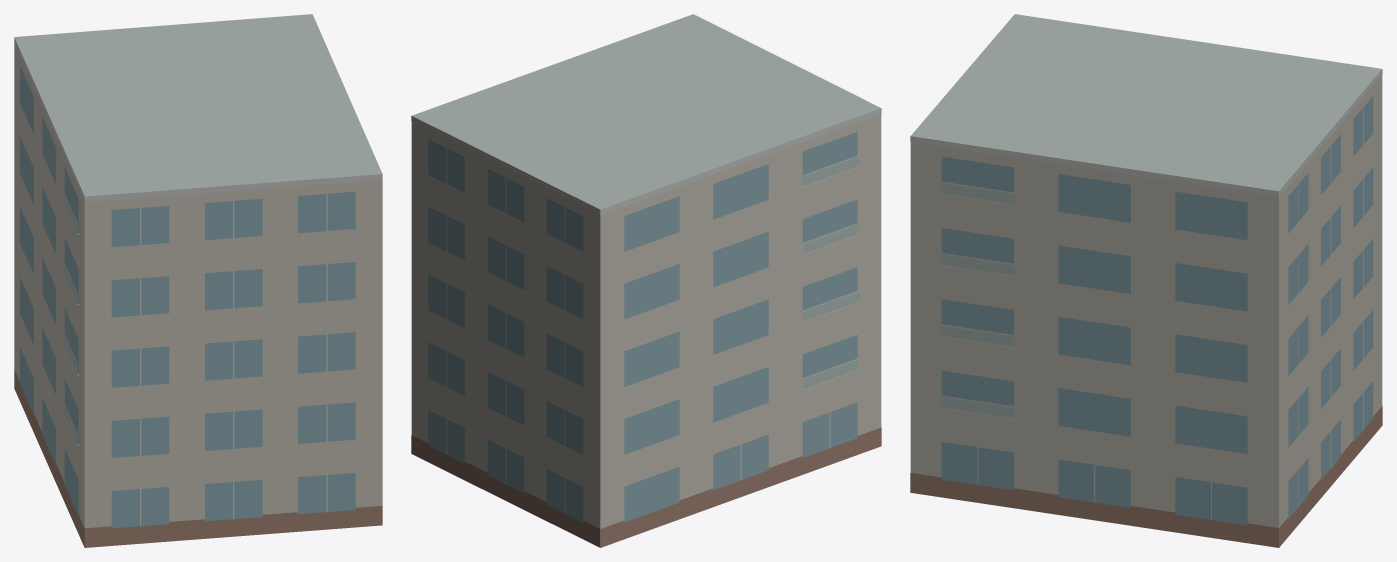
File: survey-upis-32849544.glb
3 views of the same model, side by side, from view 1: azimuth 30°, elevation 25°; view 2: azimuth 150°, elevation 25°; view 3: azimuth 270°, elevation 25° (orthographic). The views are drawn at different scales.
Visible parts, largest first — view 1: survey-upis-32849544.tmp; view 2: survey-upis-32849544.tmp; view 3: survey-upis-32849544.tmp.
Part boxes in pixels (<box>): survey-upis-32849544.tmp: <box>14,14,382,547</box>; survey-upis-32849544.tmp: <box>411,14,881,547</box>; survey-upis-32849544.tmp: <box>910,14,1382,547</box>.
Size of the model in its own units: 15.47 by 14.5 by 17.4.
